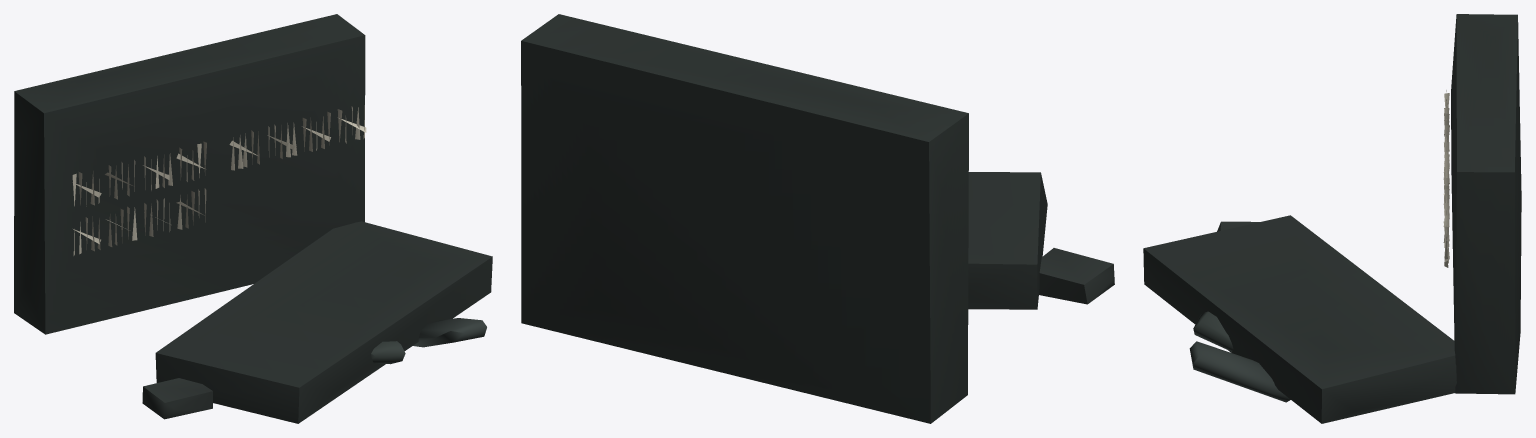
Rendered from tally_slab_c_lod2.glb.
3 views of the same model, side by side, from view 1: azimuth 30°, elevation 25°; view 2: azimuth 150°, elevation 25°; view 3: azimuth 270°, elevation 25° (orthographic). The views are drawn at different scales.
Visible parts, largest first — view 1: Surface.001; view 2: Surface.001; view 3: Surface.001.
Part boxes in pixels (<box>): Surface.001: <box>14,14,492,423</box>; Surface.001: <box>521,14,1114,423</box>; Surface.001: <box>1143,14,1521,423</box>.
Size of the model in its own units: 1.75 by 1.05 by 1.48.
